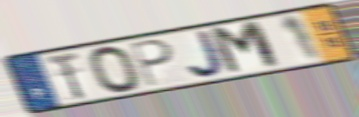1: (279, 12, 324, 63)
J: (185, 28, 230, 80)
M: (206, 18, 285, 77)
O: (86, 44, 143, 95)
P: (127, 38, 176, 89)
T: (43, 49, 88, 102)
